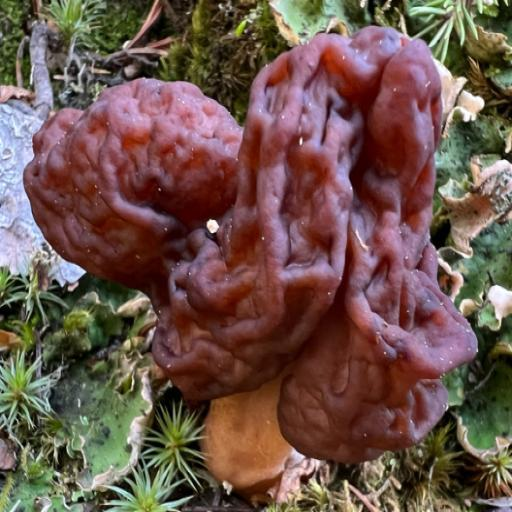mushroom: (30, 25, 480, 467)
